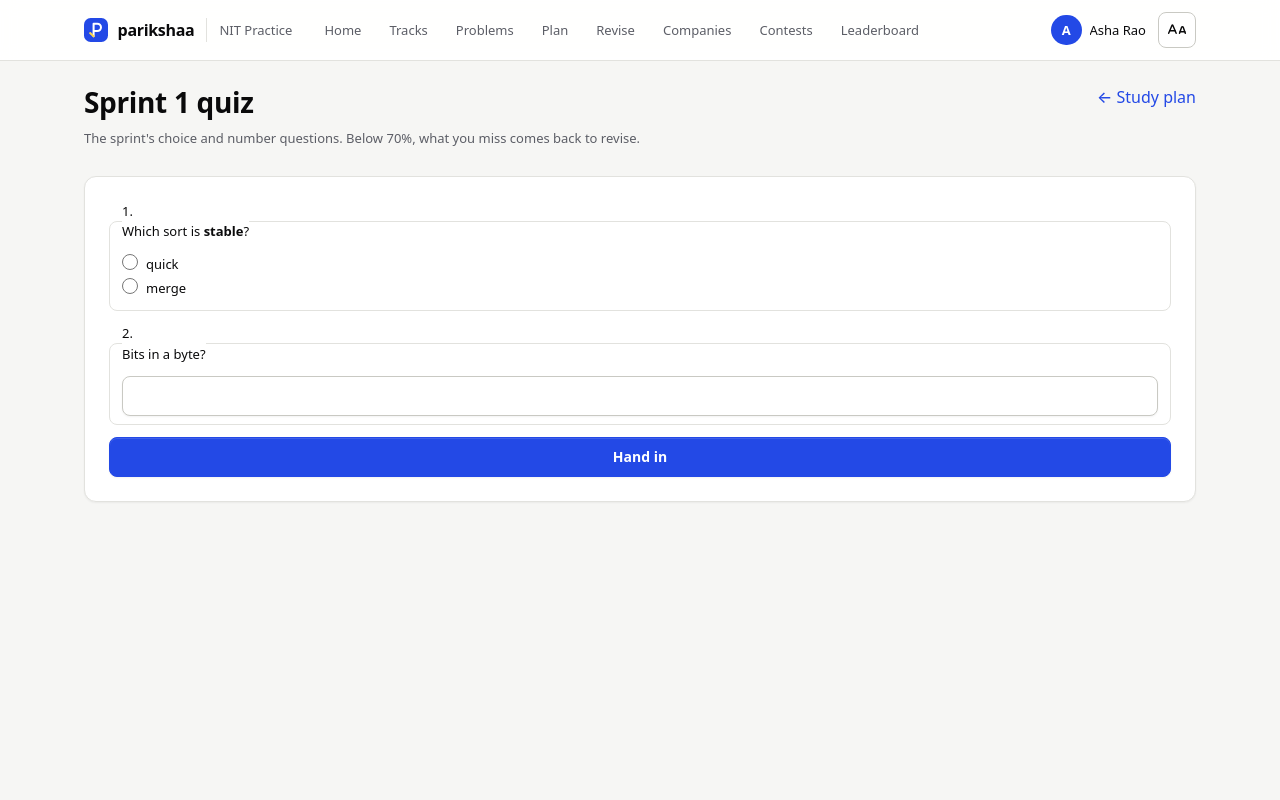
it: the end of a sprint, and a day off › hands in a sprint's quiz and says what comes back to revise
Click the radio button labelled "merge" at (130, 286), box [122, 278, 138, 294]
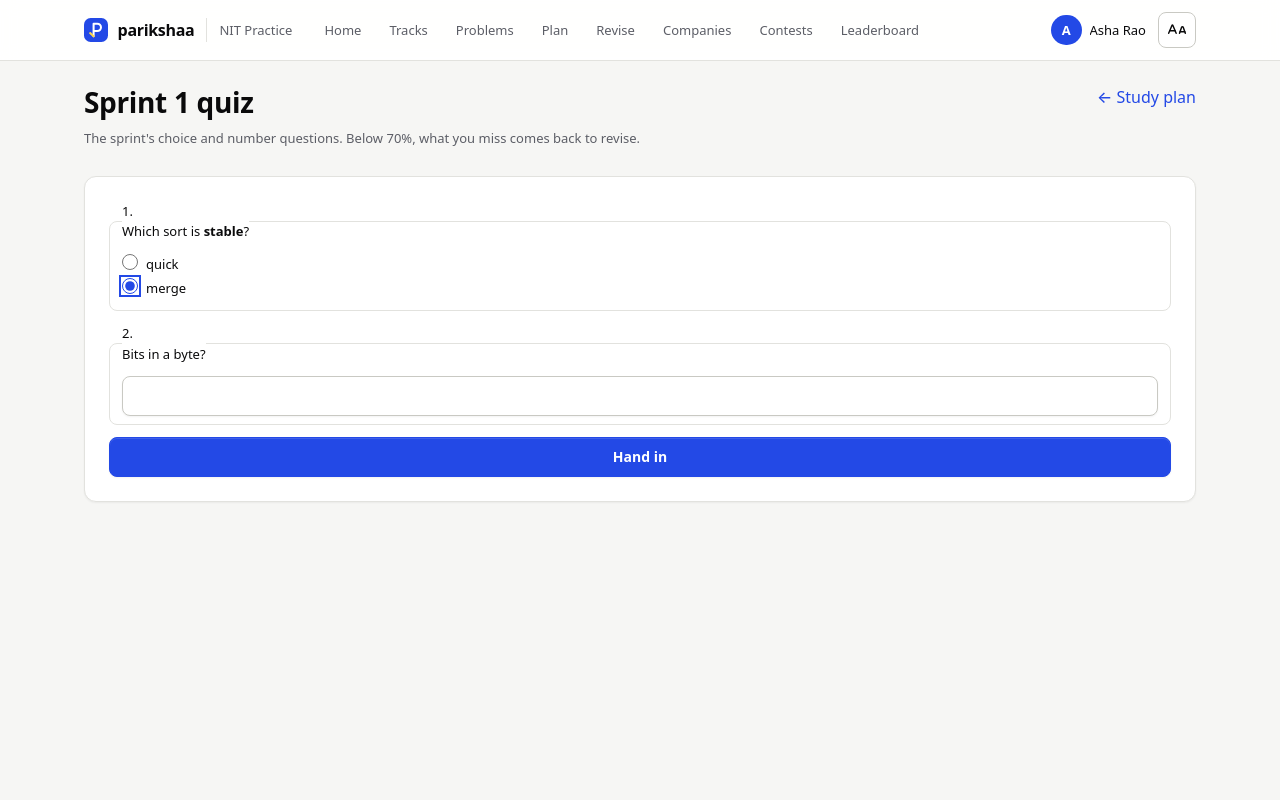
Type "7" into the field named "Bits" at (640, 396), box [122, 376, 1158, 416]
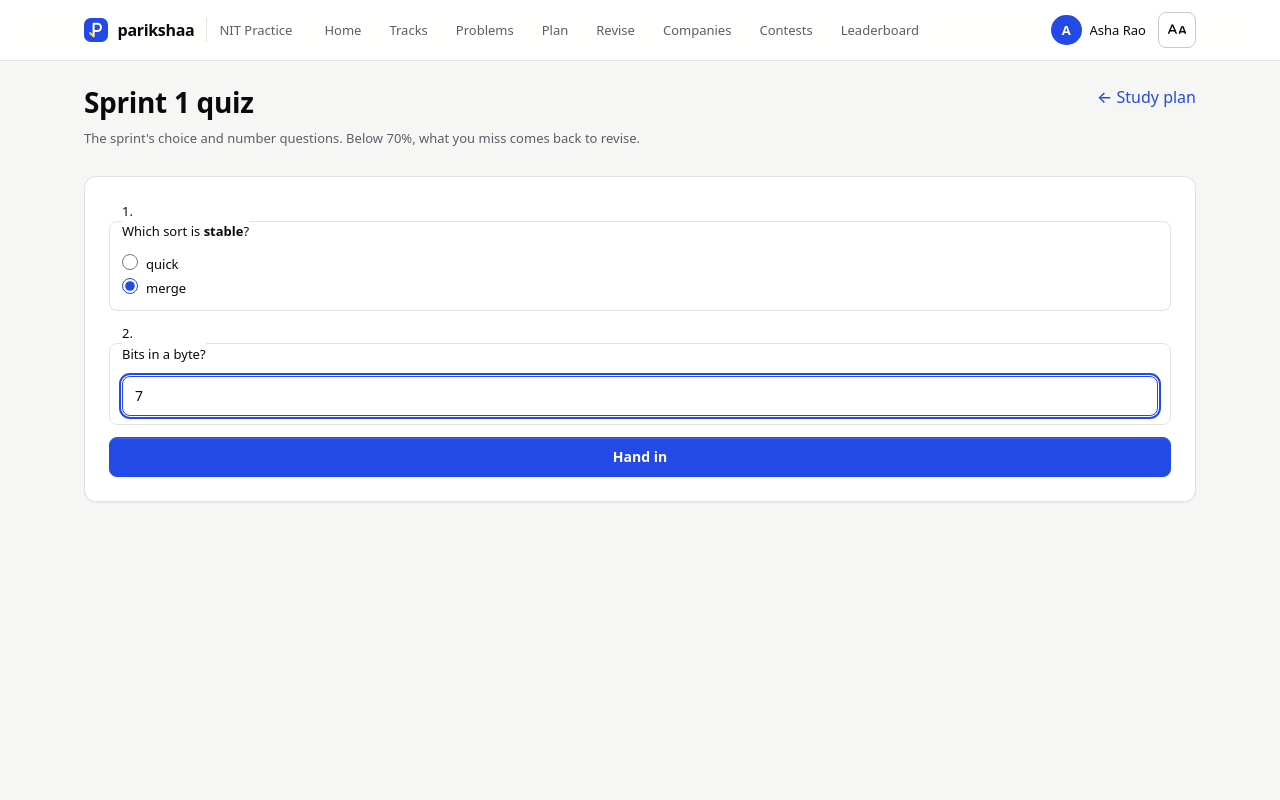
Click the button "Hand in" at (640, 457), box [109, 437, 1171, 477]
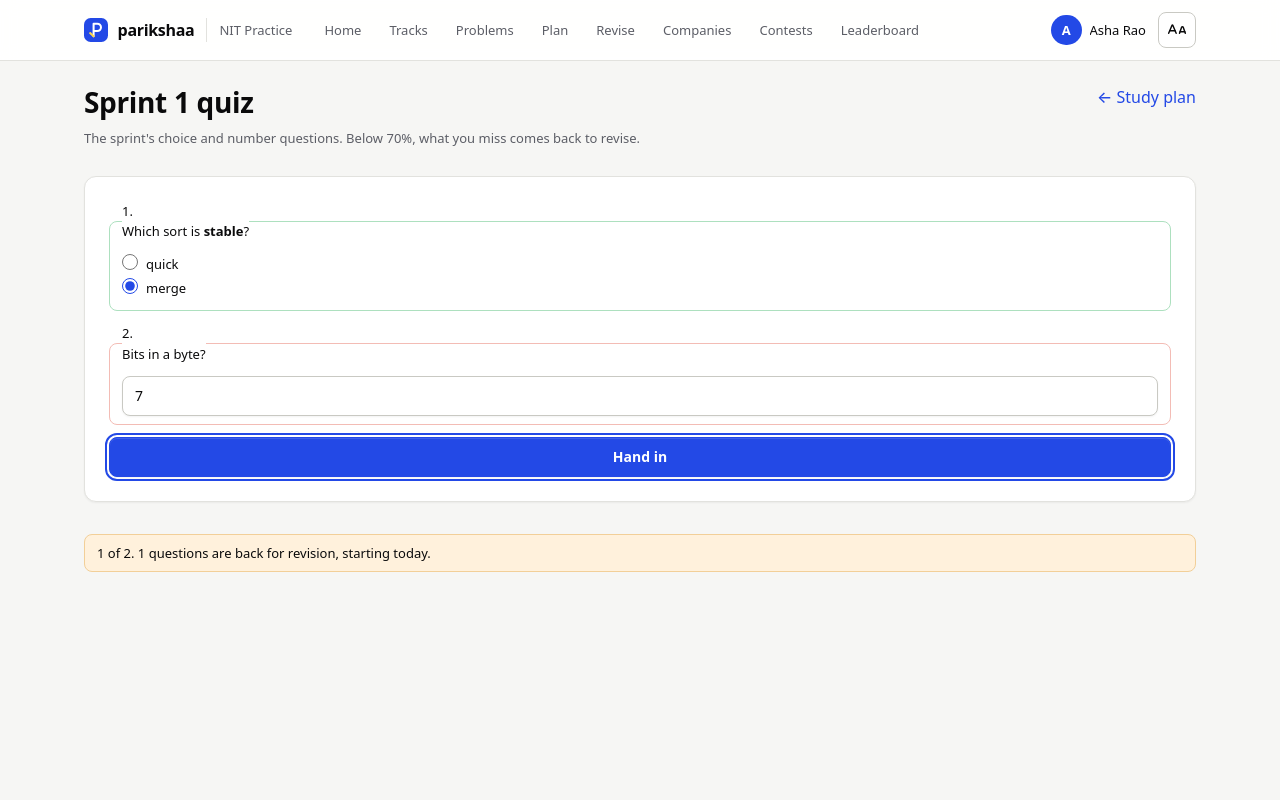
Now the text "1 of 2. 1 questions are back for revision, starting today." is shown, box [84, 534, 1196, 572]
